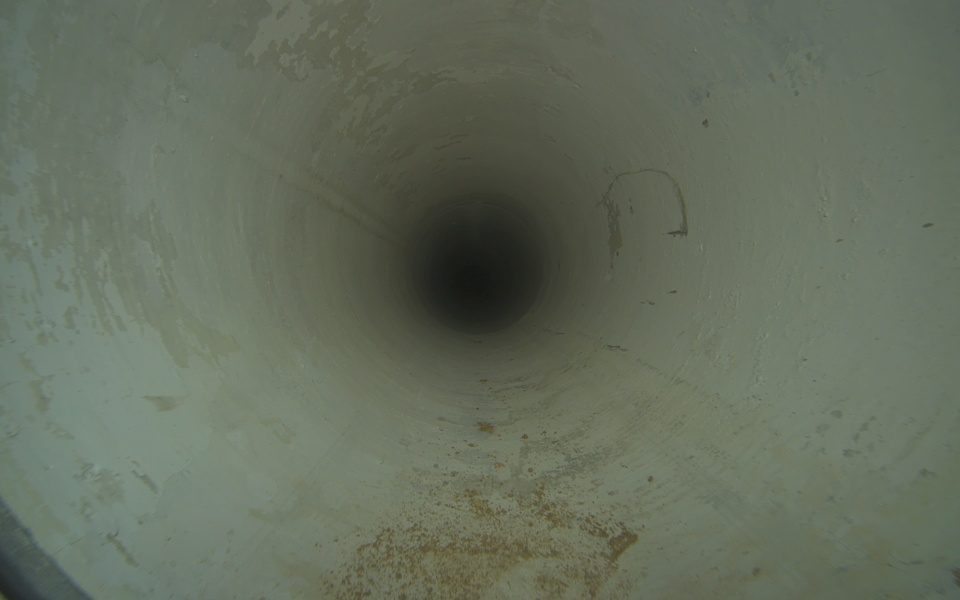circle2: (457, 260, 494, 297)
